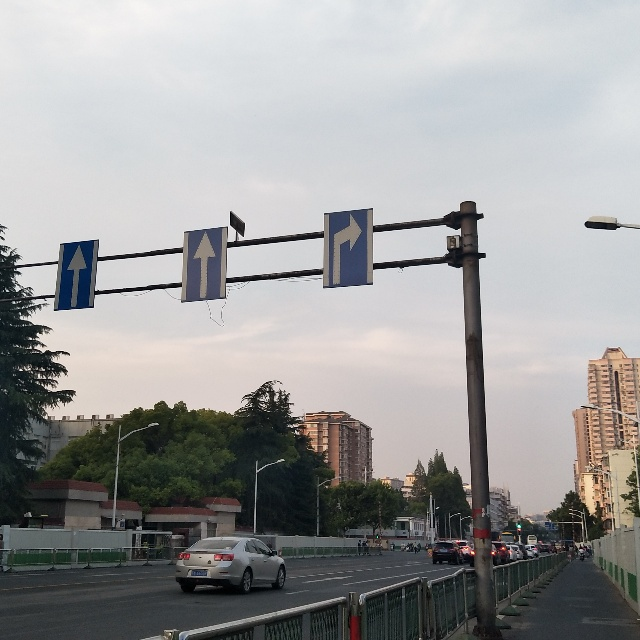right: (327, 213, 371, 286)
straight: (188, 226, 221, 300), (61, 243, 92, 308)
